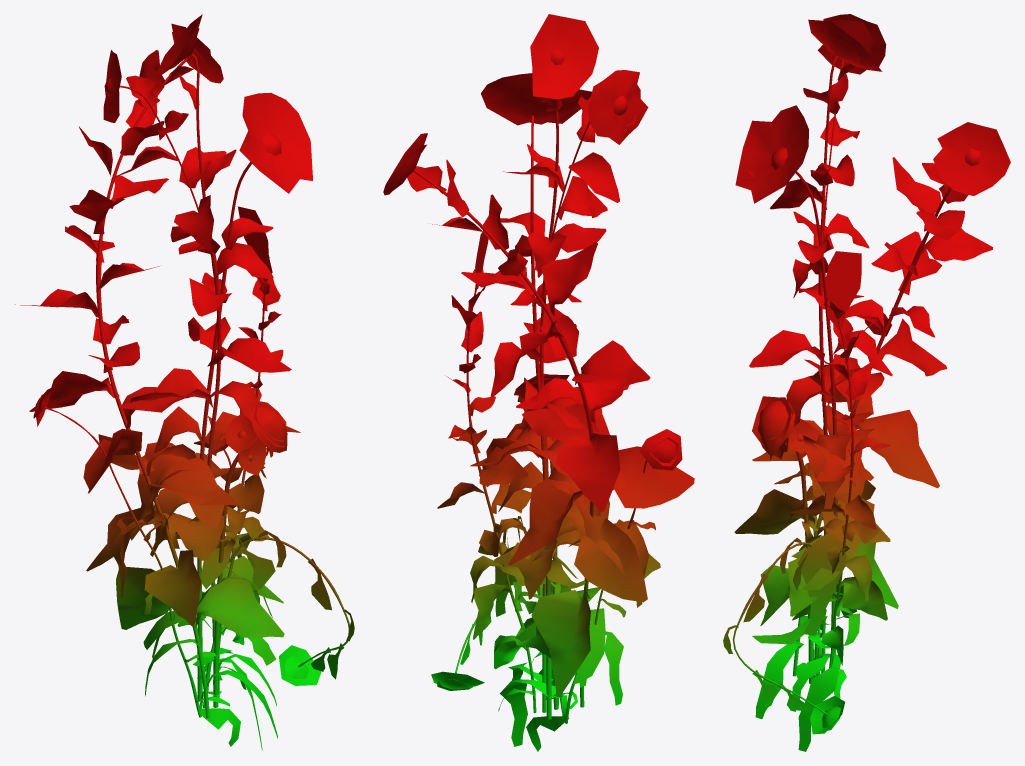
File: Crownbeard_LOD0_Var5_tefoajkr.fbx
3 views of the same model, side by side, from view 1: azimuth 30°, elevation 25°; view 2: azimuth 150°, elevation 25°; view 3: azimuth 270°, elevation 25° (orthographic). The views are drawn at different scales.
Parts seen in each view (by area): view 1: _3268_Var5_LOD0; view 2: _3268_Var5_LOD0; view 3: _3268_Var5_LOD0.
Boxes of the visible parts, left/top/right/bottom form: _3268_Var5_LOD0: left=15, top=14, right=354, bottom=750; _3268_Var5_LOD0: left=383, top=14, right=694, bottom=751; _3268_Var5_LOD0: left=723, top=14, right=1010, bottom=751.
Size of the model in its own units: 34.22 by 91.35 by 33.63.
